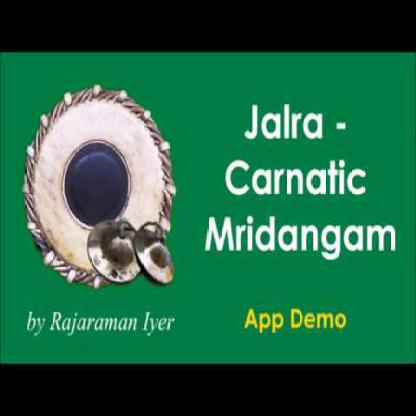Mridangam: (18, 76, 190, 291)
